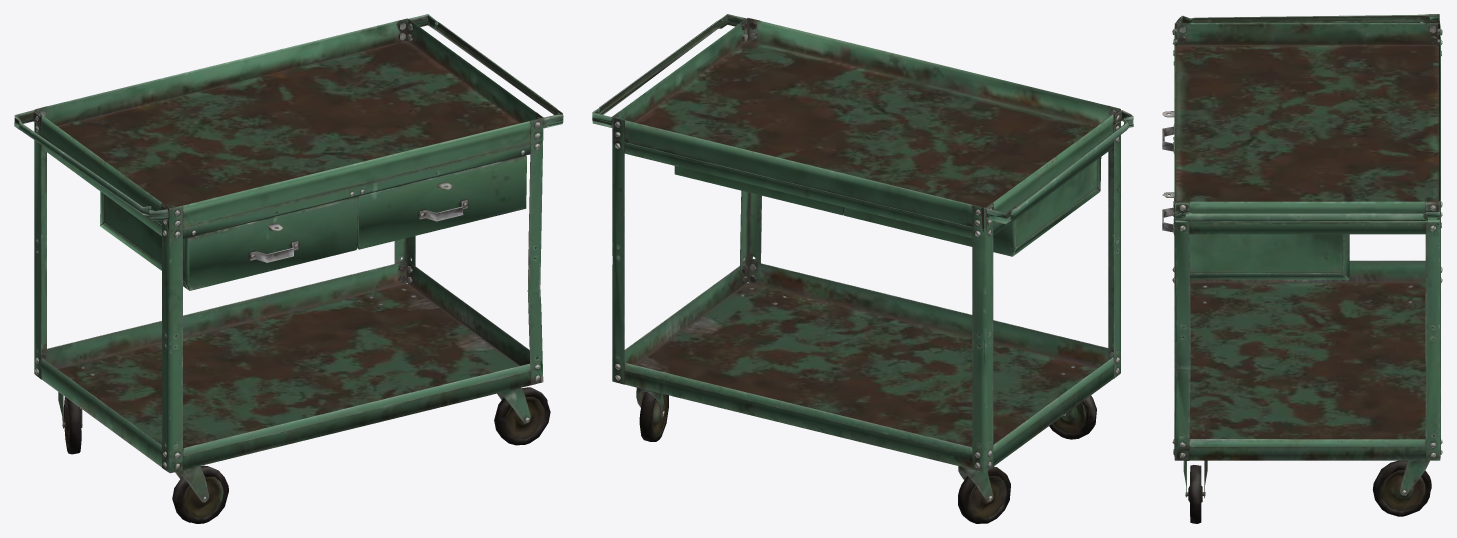
Rendered from tool_cart.glb.
The picture shows the model from 3 angles, left to right: view 1: azimuth 30°, elevation 25°; view 2: azimuth 150°, elevation 25°; view 3: azimuth 270°, elevation 25°; orthographic projection. The views are drawn at different scales.
Parts seen in each view (by area): view 1: tool_cart; view 2: tool_cart; view 3: tool_cart.
Boxes of the visible parts, <box> form: tool_cart: <box>14,14,563,523</box>; tool_cart: <box>592,14,1133,523</box>; tool_cart: <box>1162,14,1442,523</box>.
Size of the model in its own units: 1.27 by 0.9646 by 0.7522.
1 material, 1 textured.
